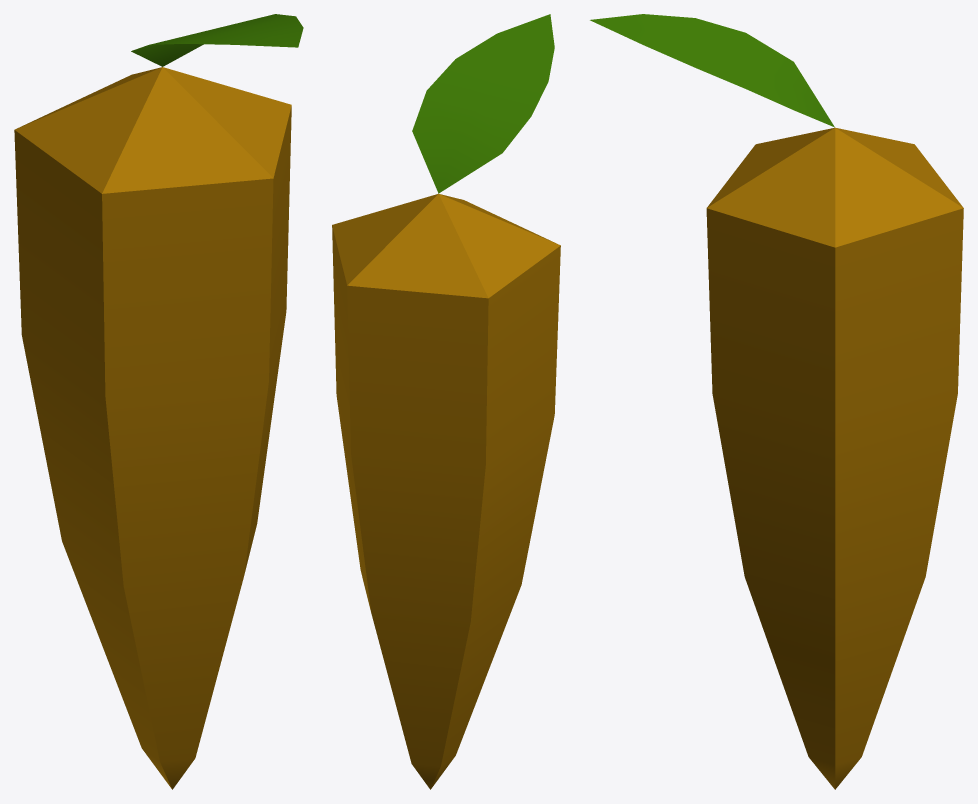
File: SM_Carrot.fbx
3 renders of one model, left to right at view 1: azimuth 30°, elevation 25°; view 2: azimuth 150°, elevation 25°; view 3: azimuth 270°, elevation 25°, orthographic. The views are drawn at different scales.
Visible parts, largest first — view 1: pCylinder7; view 2: pCylinder7; view 3: pCylinder7.
Boxes of the visible parts, <box> form: pCylinder7: <box>14,14,303,789</box>; pCylinder7: <box>332,14,560,789</box>; pCylinder7: <box>590,14,963,789</box>.
Size of the model in its own units: 12.08 by 41.71 by 18.5.
